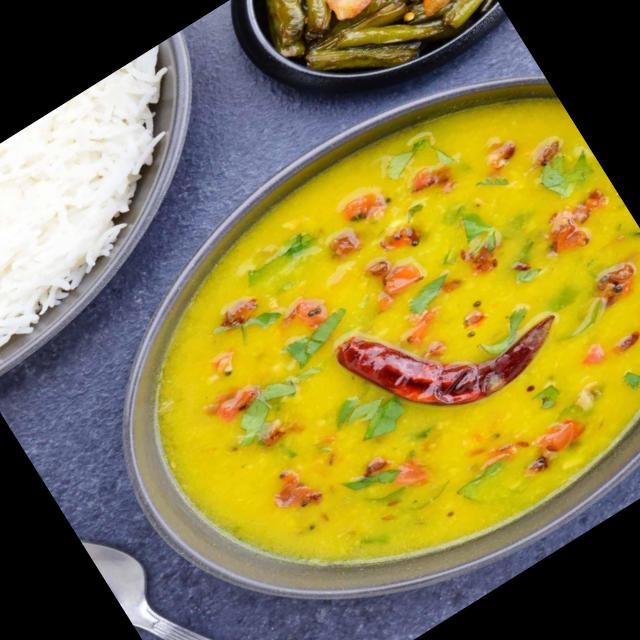dal: (70, 44, 640, 640)
rice: (0, 43, 259, 378)
